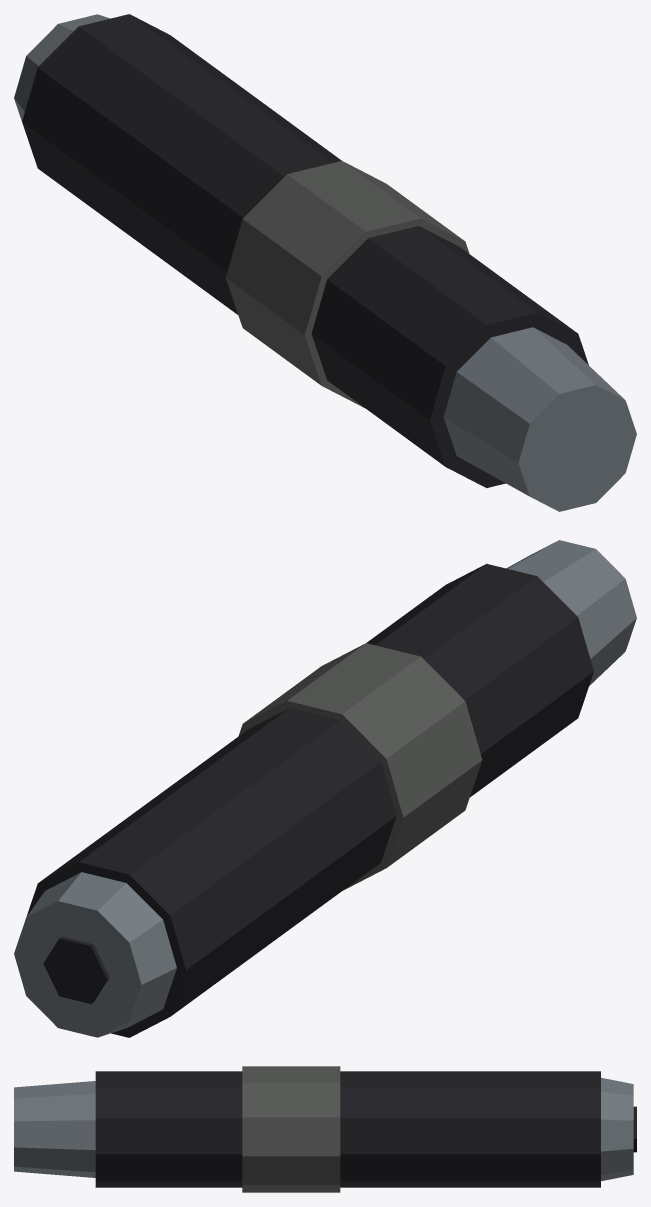
The model's file is suppressor.glb.
3 views of the same model, one above another, from view 1: azimuth 30°, elevation 25°; view 2: azimuth 150°, elevation 25°; view 3: azimuth 270°, elevation 25° (orthographic). The views are drawn at different scales.
Parts seen in each view (by area): view 1: suppressor; view 2: suppressor; view 3: suppressor.
Part boxes in pixels (<box>): suppressor: <box>14,14,636,511</box>; suppressor: <box>14,540,636,1037</box>; suppressor: <box>14,1066,636,1192</box>.
Bounding box in the file's own units: 0.039 × 0.0371 × 0.191.
Materials: 1 (1 with a texture image).
